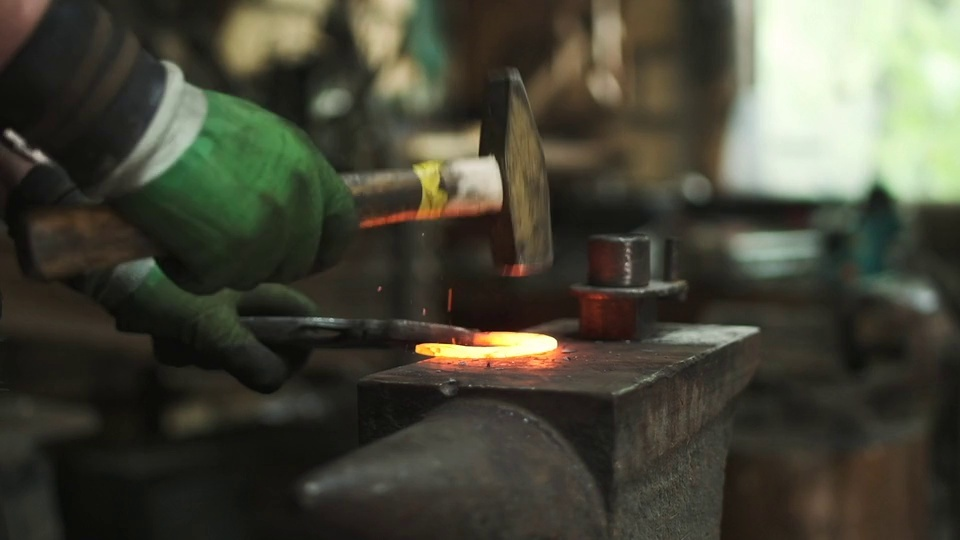hammer: (11, 66, 561, 288)
